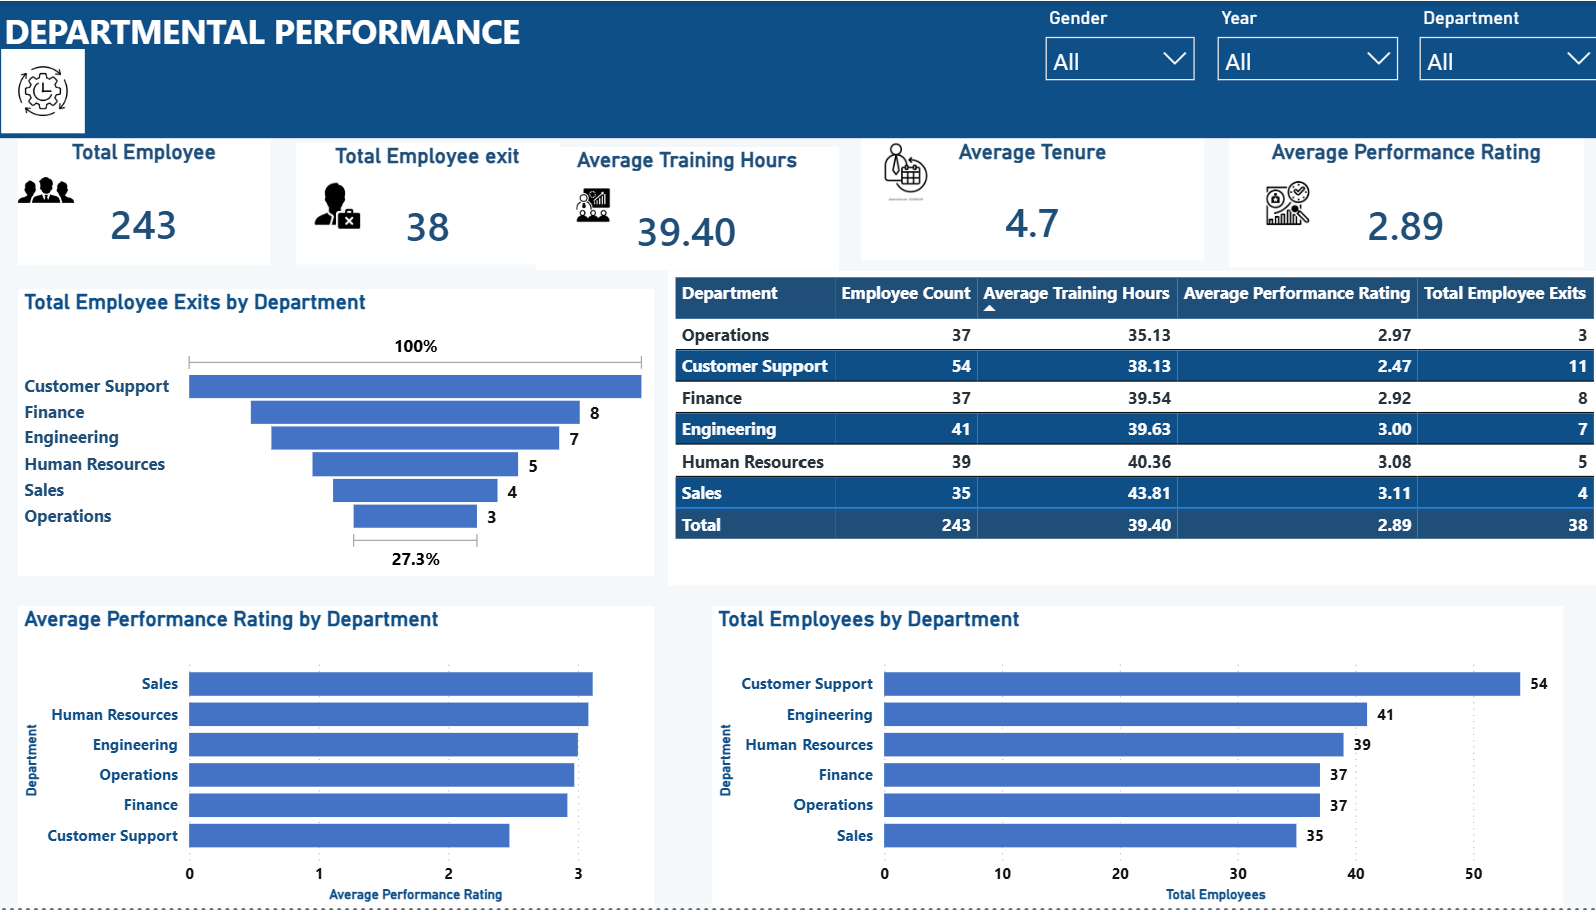

Layout of this report page (visuals, bound fields, positions):
{"tool":"powerbi","page":{"name":"Departmental Performance","canvas":[1280,720],"ordinal":1},"visuals":[{"type":"cardVisual","title":"Total Employee","fields":{"Data":["Employee Data.Total Employees"]},"box":[15.9,109.7,200.3,100.1],"z":0,"group":"g2"},{"type":"cardVisual","title":"Total Employee exit","fields":{"Data":["Employee Data.In-Active Employees"]},"box":[236.8,112.8,209.1,96.4],"z":0,"group":"g5"},{"type":"funnel","fields":{"Category":["Employee Data.Department"],"Y":["Employee Data.Total Employee Exits"]},"box":[15.9,228.9,505.4,227.3],"z":0},{"type":"image","box":[15.9,114.5,44.5,71.5],"z":1000,"group":"g2"},{"type":"cardVisual","title":"Average Training Hours","fields":{"Data":["Employee Data.Average Training Hours"]},"box":[427.5,116,240,98.2],"z":1000,"group":"g9"},{"type":"barChart","fields":{"Category":["Employee Data.Department"],"Y":["Employee Data.Average Performance Rating"]},"box":[15.9,480,505.4,240],"z":1000},{"type":"cardVisual","title":"Average Tenure","fields":{"Data":["Employee Data.Average Tenure"]},"box":[685,109.8,272.7,96.4],"z":2000,"group":"g1"},{"type":"tableEx","fields":{"Values":["Employee Data.Department","Employee Data.Employee Count","Employee Data.Average Training Hours","Employee Data.Average Performance Rating","Employee Data.Total Employee Exits"]},"box":[532.5,214.6,747.3,249.1],"z":2000},{"type":"barChart","fields":{"Y":["Employee Data.Total Employees"],"Category":["Employee Data.Department"]},"box":[567.4,480,675.5,240],"z":3000},{"type":"group","id":"g1","title":"Group 2","box":[685,109.7,271.8,97],"z":4000},{"type":"group","id":"g2","title":"Group 3","box":[15.9,109.7,200.3,100.1],"z":5000},{"type":"cardVisual","title":"Average Performance Rating","fields":{"Data":["Employee Data.Average Performance Rating"]},"box":[978.2,109.1,281.8,101.8],"z":6000,"group":"g8"},{"type":"group","id":"g3","title":"Group 5","box":[427.5,116,240,98.5],"z":7000},{"type":"group","id":"g4","title":"Group 8","box":[0,0,1281.1,109.1],"z":8000,"group":"g6"},{"type":"group","id":"g5","title":"Group 6","box":[236.8,112.8,209.1,96.4],"z":8000},{"type":"group","id":"g6","title":"Group 9","box":[0,0,1281.1,109.1],"z":9000},{"type":"group","id":"g7","title":"Group 1","box":[0,0,1281.1,109.1],"z":9000,"group":"g4"},{"type":"slicer","fields":{"Values":["Employee Data.Gender"]},"box":[821.7,0,138.3,71.5],"z":9001,"group":"g6"},{"type":"image","box":[685.3,109.7,71.5,49.3],"z":9003,"group":"g1"},{"type":"image","box":[982.3,135.1,84.2,50.9],"z":9006,"group":"g8"},{"type":"group","id":"g8","title":"Group 4","box":[978.2,109.1,281.8,101.8],"z":9007},{"type":"image","box":[438.2,141.4,68.3,41.3],"z":9008,"group":"g9"},{"type":"image","box":[236.8,141.4,62,39.7],"z":9010,"group":"g5"},{"type":"image","box":[0,38.1,71.5,66.8],"z":9012,"group":"g4"},{"type":"group","id":"g9","title":"Group 7","box":[427.5,116,240,98.2],"z":9012,"group":"g3"},{"type":"textbox","box":[0,0,1280,109.1],"z":11000,"group":"g7"},{"type":"slicer","fields":{"Values":["Date Table.Year"]},"box":[958.4,0,163.7,71.5],"z":12000,"group":"g7"},{"type":"slicer","fields":{"Values":["Employee Data.Department"]},"box":[1118.9,0,162.1,76.3],"z":12500,"group":"g7"}]}

Visuals, with their boxes in screenshot pixels (x1, y1, x2, y2), scaled from the page's 1280x720 canvas onto the 1596x910 screenshot:
"Total Employee" cardVisual: (20, 139, 270, 265)
"Total Employee exit" cardVisual: (295, 143, 556, 264)
funnel - Employee Data.Department x Employee Data.Total Employee Exits: (20, 289, 650, 577)
image: (20, 145, 75, 235)
"Average Training Hours" cardVisual: (533, 147, 832, 271)
barChart - Employee Data.Department x Employee Data.Average Performance Rating: (20, 607, 650, 909)
"Average Tenure" cardVisual: (854, 139, 1194, 261)
tableEx - Employee Data.Department x Employee Data.Employee Count: (664, 271, 1595, 586)
barChart - Employee Data.Total Employees x Employee Data.Department: (707, 607, 1550, 909)
"Group 2" group: (854, 139, 1193, 261)
"Group 3" group: (20, 139, 270, 265)
"Average Performance Rating" cardVisual: (1220, 138, 1571, 267)
"Group 5" group: (533, 147, 832, 271)
"Group 8" group: (0, 0, 1595, 138)
"Group 6" group: (295, 143, 556, 264)
"Group 9" group: (0, 0, 1595, 138)
"Group 1" group: (0, 0, 1595, 138)
slicer - Employee Data.Gender: (1025, 0, 1197, 90)
image: (854, 139, 944, 201)
image: (1225, 171, 1330, 235)
"Group 4" group: (1220, 138, 1571, 267)
image: (546, 179, 632, 231)
image: (295, 179, 373, 229)
image: (0, 48, 89, 133)
"Group 7" group: (533, 147, 832, 271)
textbox: (0, 0, 1595, 138)
slicer - Date Table.Year: (1195, 0, 1399, 90)
slicer - Employee Data.Department: (1395, 0, 1595, 96)
